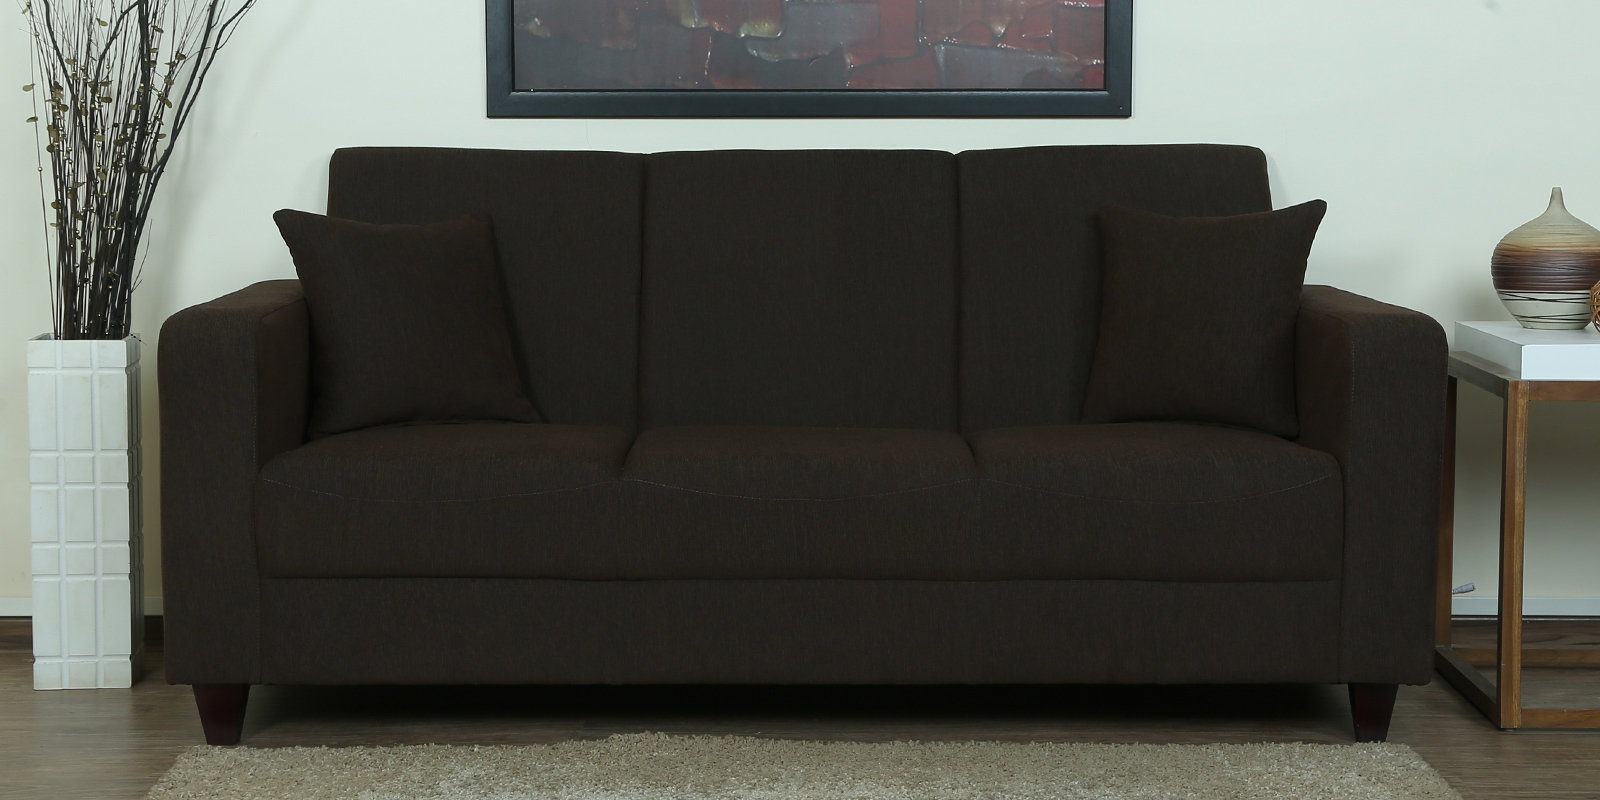Alba Three Seater Sofa in Chestnut Brown Colour by CasaCraft: (154, 140, 1458, 757)
